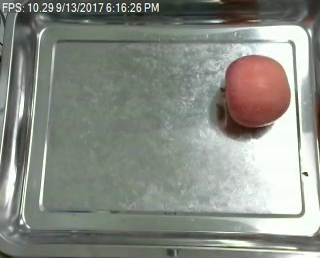Apple: (224, 55, 291, 126)
